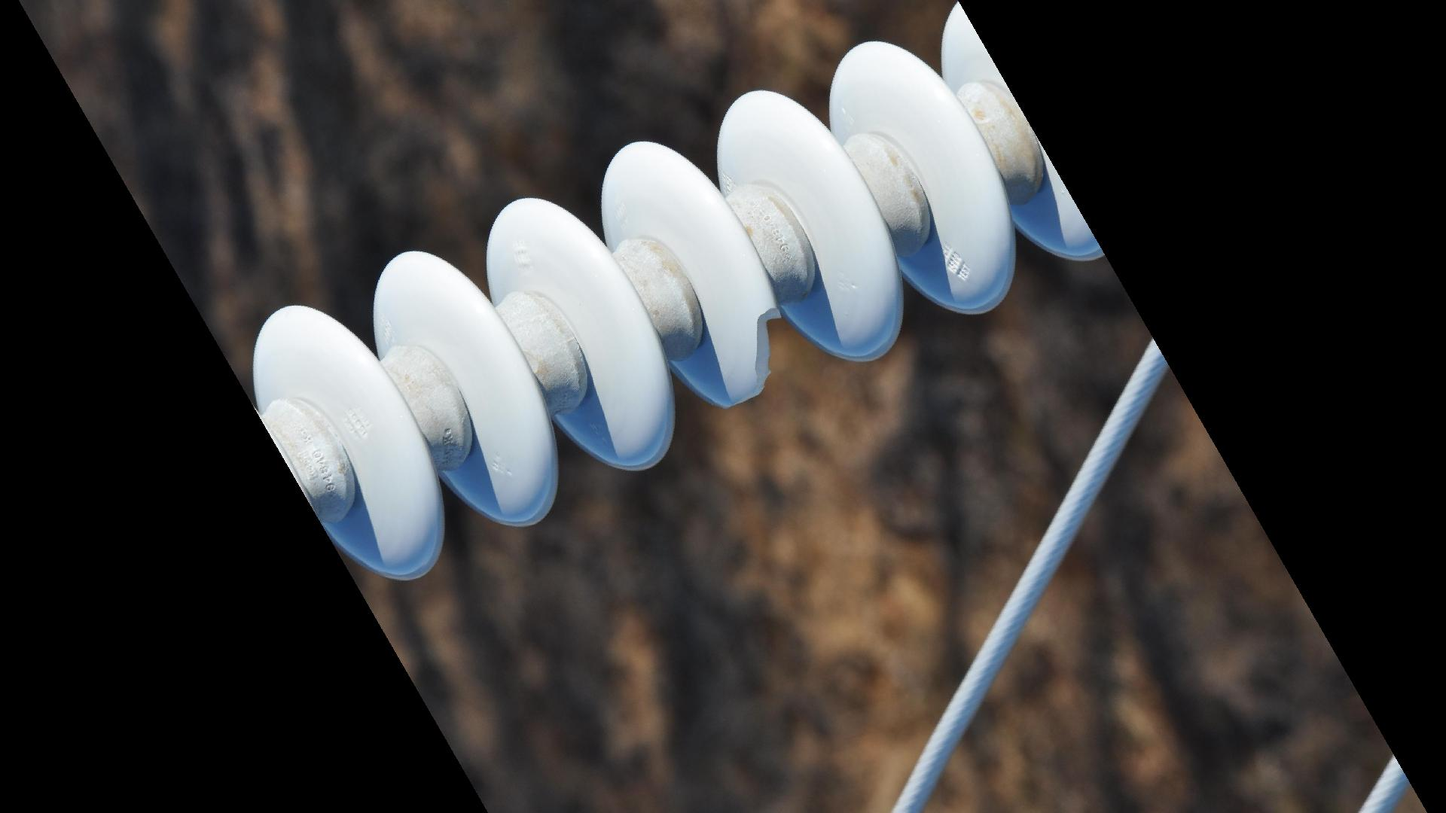insulator: (248, 1, 1113, 587)
insulator_breakage: (708, 290, 798, 422)
